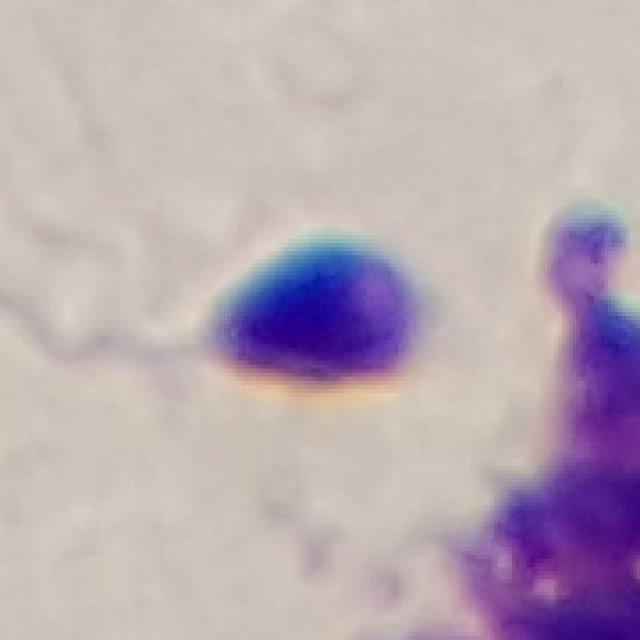normal sperm: (102, 228, 440, 399)
